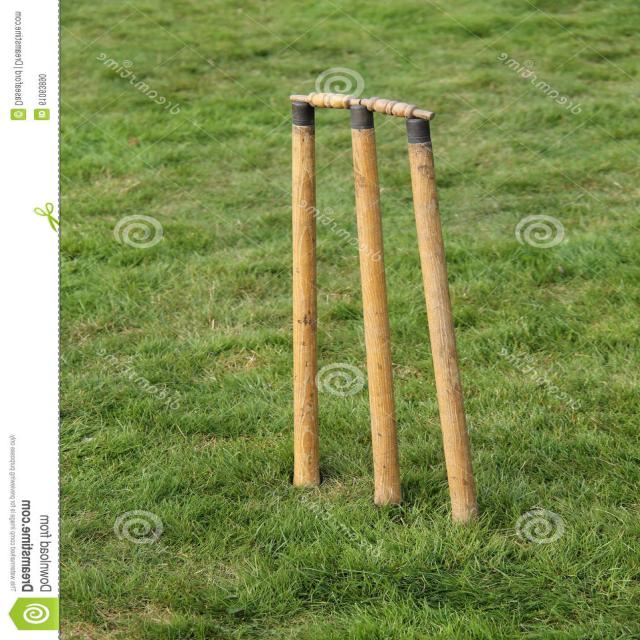stump: (285, 88, 485, 526)
